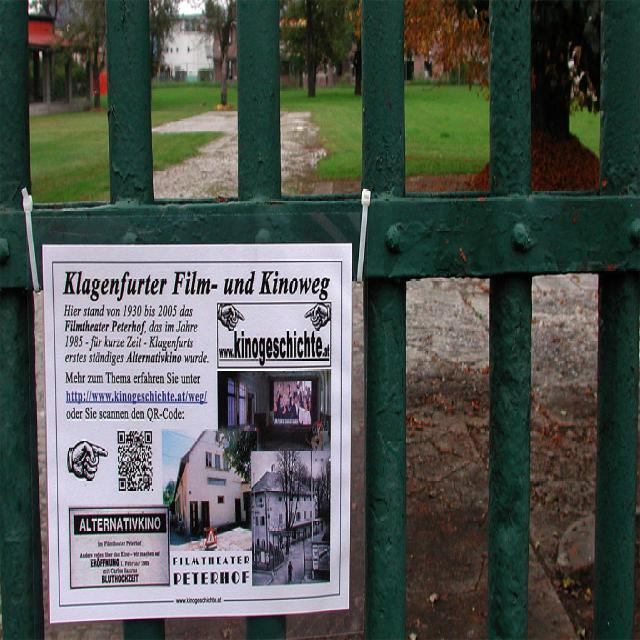qrcode: (119, 431, 154, 491)
